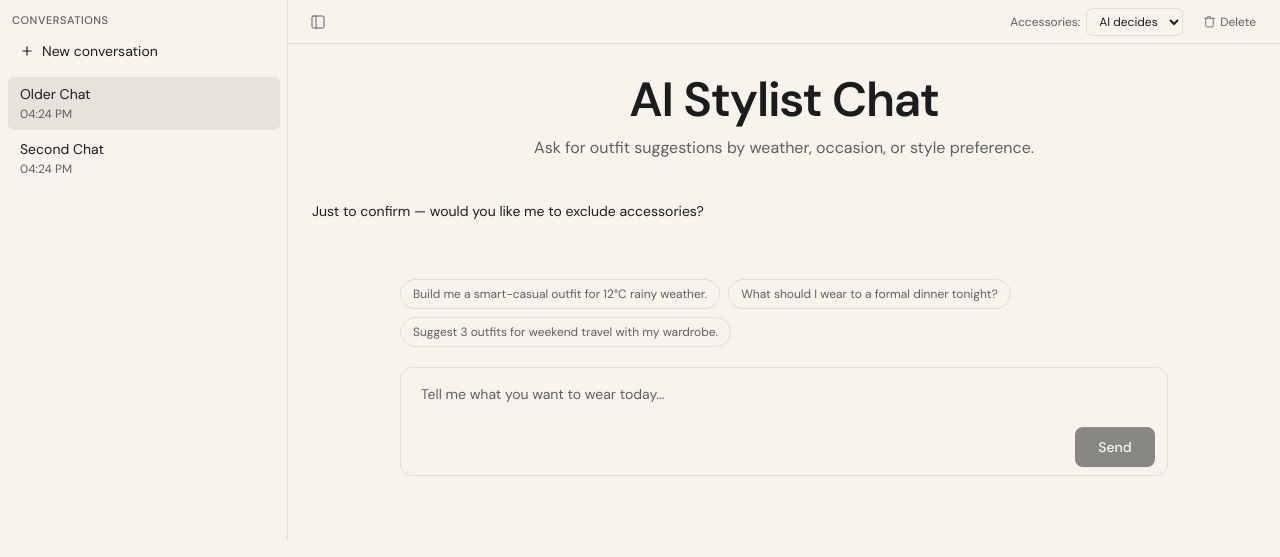
Test case: ChatPage › accessory mode sync › drops old conversation messages (including any confirmation bubble) when switching conversations
The image size is (1280, 557).
Expected: the text "Just to confirm — would you like me to exclude accessories?" is shown, top-left (312, 202), bottom-right (704, 220)
Step 1. Click the text "Second Chat" → coordinates (62, 149), box top-left (20, 140), bottom-right (104, 158)
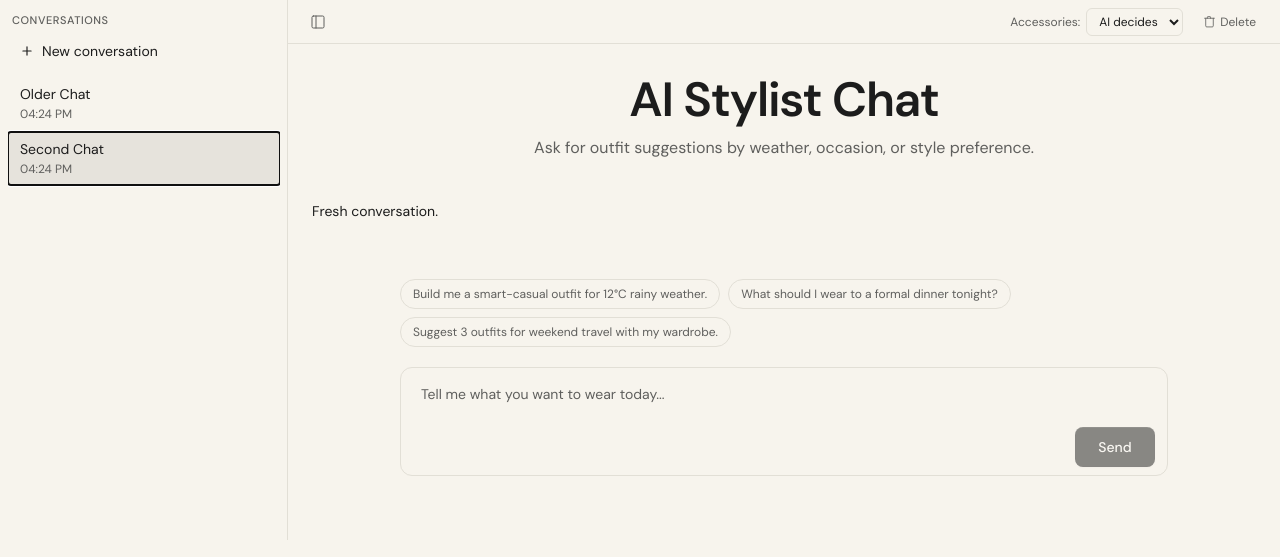
Expected: the text "Just to confirm" is gone
Expected: the text "Fresh conversation." is shown, top-left (312, 202), bottom-right (438, 220)
